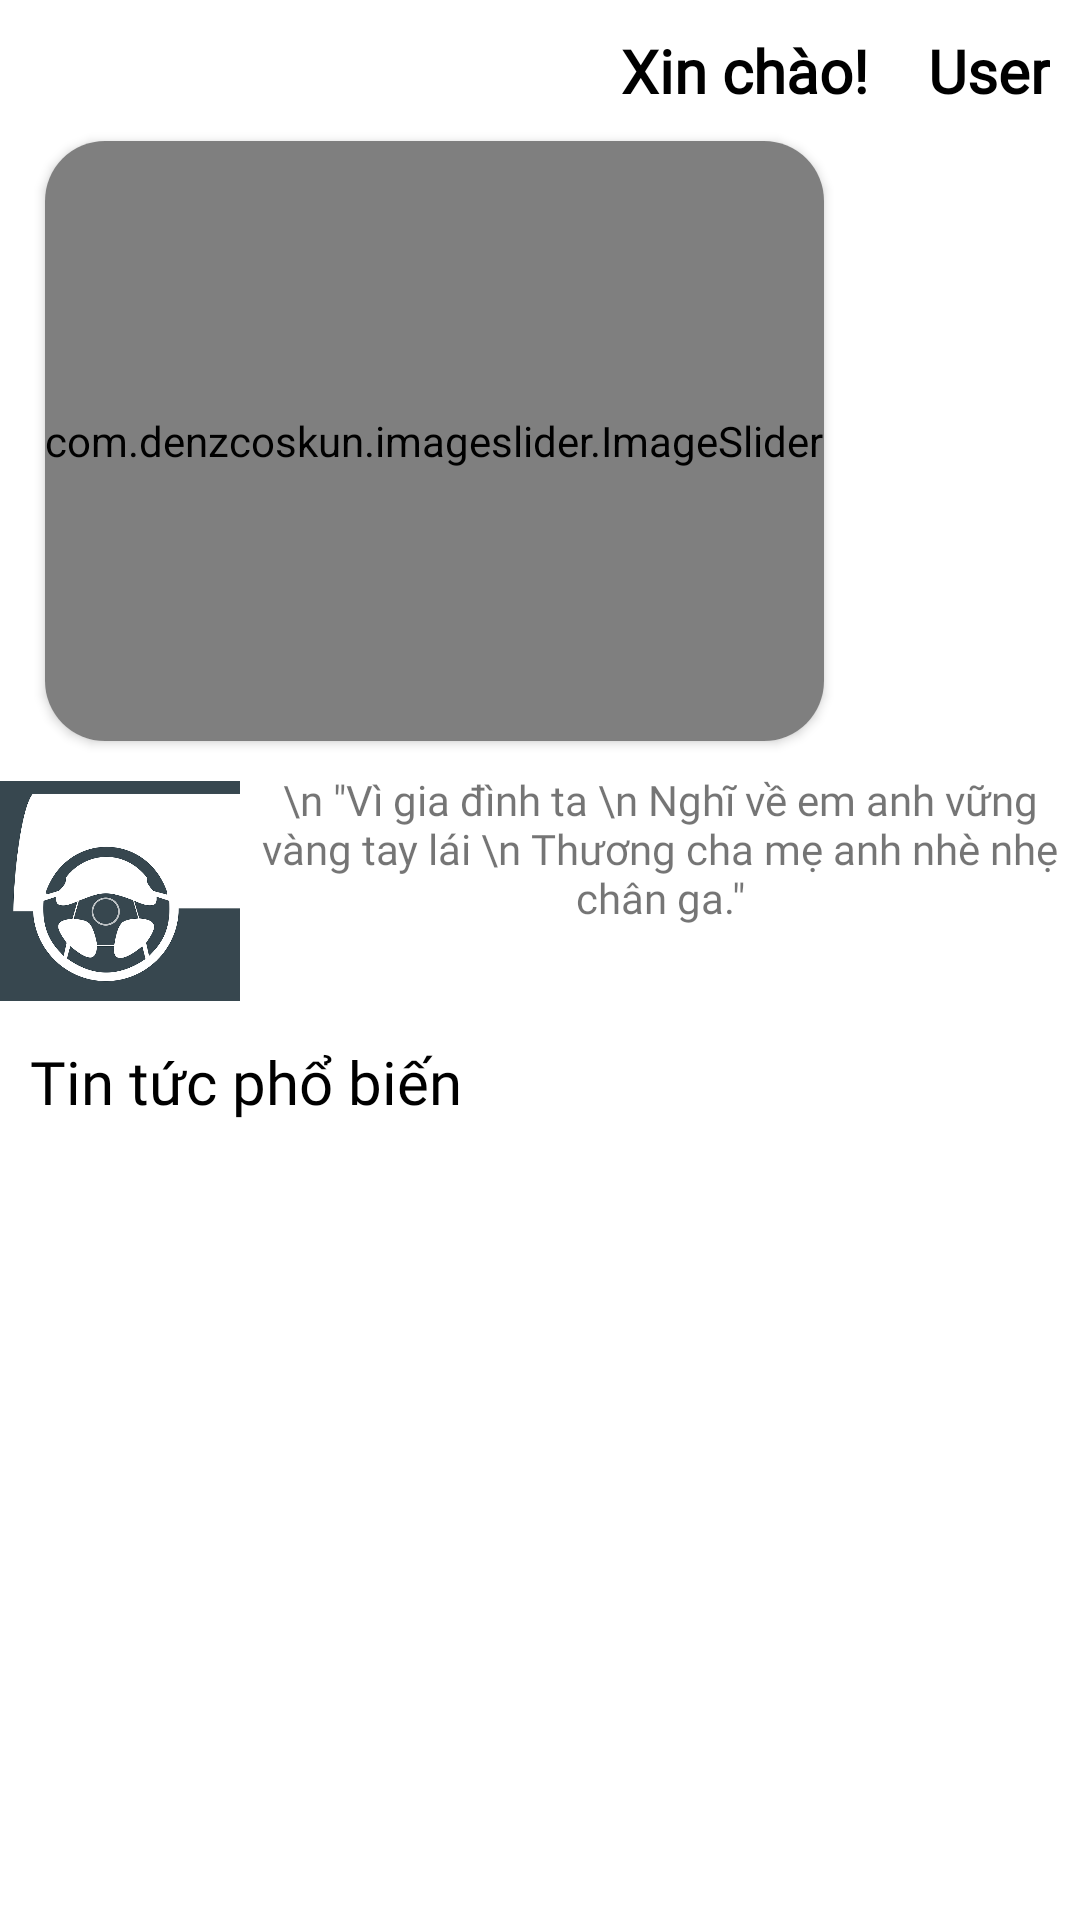

Icons on this 1080w x 1920h Android screen, each with the point to tap as [x,y]:
volang: [120,891]
